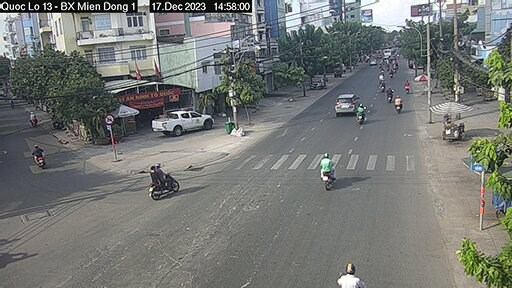car: (154, 108, 218, 144), (335, 87, 356, 119)
motorbike: (307, 145, 344, 192), (145, 160, 180, 196)
